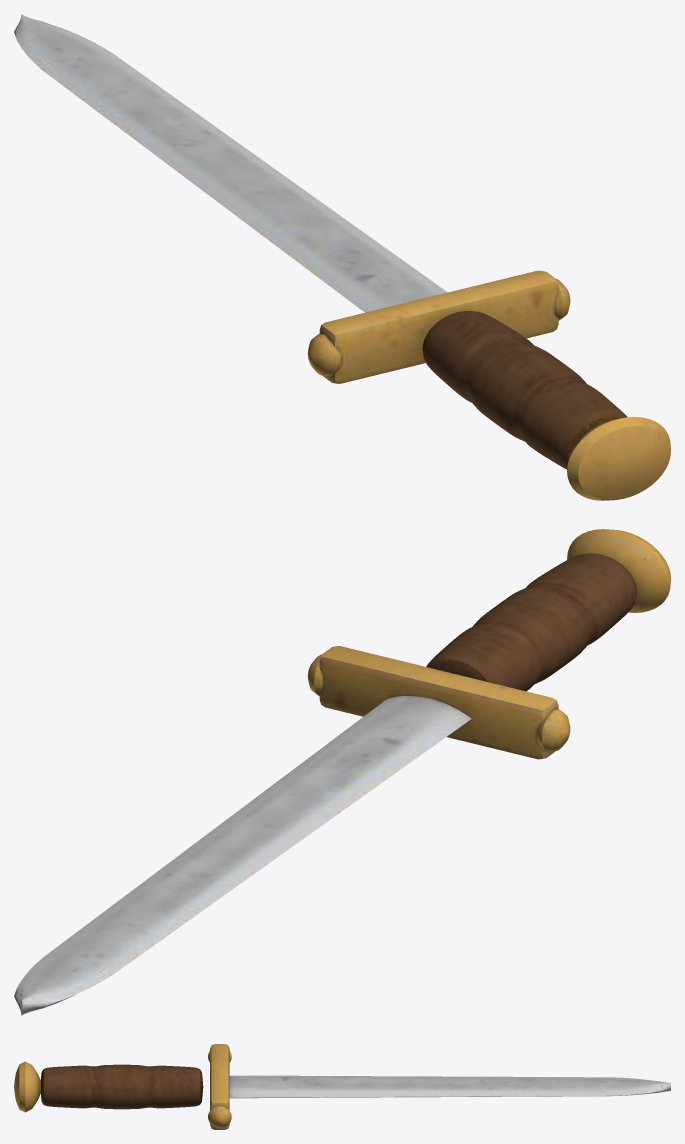
The model's file is hun_dagger.glb.
The picture shows the model from 3 angles, top to bottom: view 1: azimuth 30°, elevation 25°; view 2: azimuth 150°, elevation 25°; view 3: azimuth 270°, elevation 25°; orthographic projection. The views are drawn at different scales.
Parts seen in each view (by area): view 1: hun_dagger; view 2: hun_dagger; view 3: hun_dagger.
Part boxes in pixels (x1,y1,x2,y2): hun_dagger: (14,14,670,500); hun_dagger: (14,529,670,1015); hun_dagger: (14,1044,670,1129).
Size of the model in its own units: 0.0988 by 0.0292 by 0.4019.
Materials: 1 (1 with a texture image).
